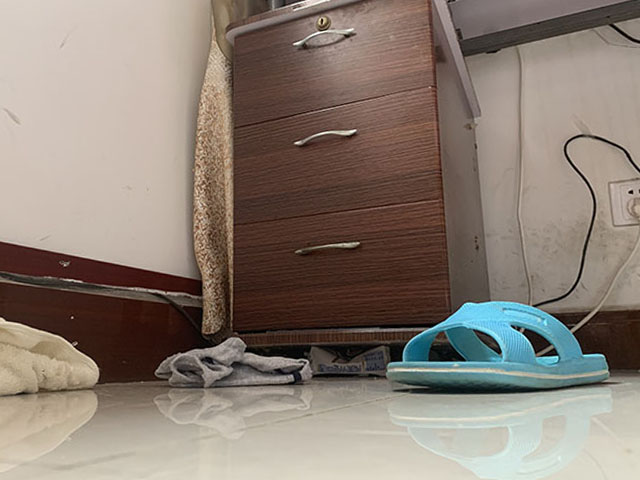cabinet: (231, 1, 488, 344)
curtain: (188, 1, 236, 336)
slippers: (386, 300, 610, 391)
socks: (158, 338, 310, 388)
wire: (561, 125, 639, 329), (511, 44, 531, 303)
